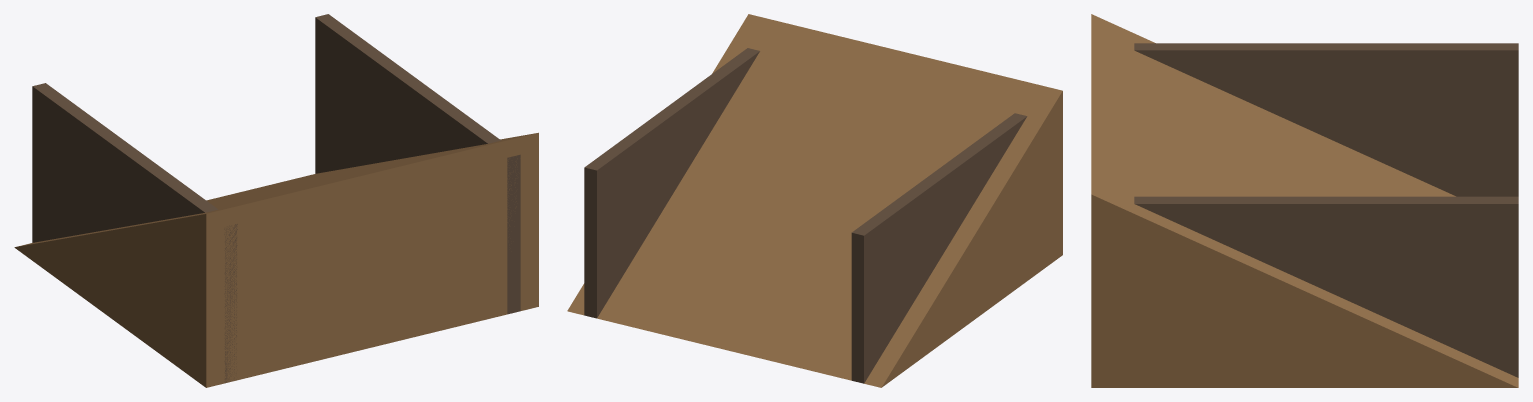
The model's file is terrain-bridge-ramp.lod0.glb.
3 views of the same model, side by side, from view 1: azimuth 30°, elevation 25°; view 2: azimuth 150°, elevation 25°; view 3: azimuth 270°, elevation 25° (orthographic). The views are drawn at different scales.
Visible parts, largest first — view 1: terrain-bridge-ramp__body; view 2: terrain-bridge-ramp__body; view 3: terrain-bridge-ramp__body.
Part boxes in pixels (x1,y1,x2,y2): terrain-bridge-ramp__body: [14, 14, 538, 387]; terrain-bridge-ramp__body: [567, 14, 1062, 387]; terrain-bridge-ramp__body: [1091, 14, 1518, 387].
Bounding box in the file's own units: 2 × 1 × 2.
